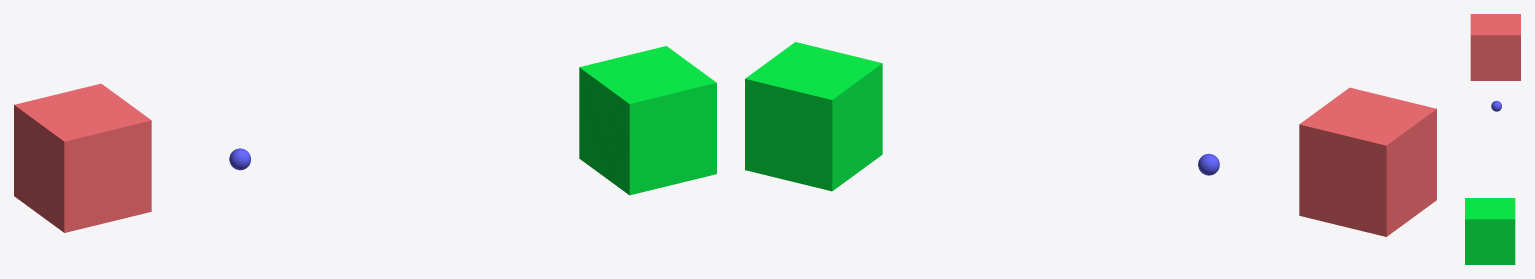
The model's file is track.glb.
The picture shows the model from 3 angles, left to right: view 1: azimuth 30°, elevation 25°; view 2: azimuth 150°, elevation 25°; view 3: azimuth 270°, elevation 25°; orthographic projection. The views are drawn at different scales.
Parts seen in each view (by area): view 1: Cube, Cube.001; view 2: Cube, Cube.001; view 3: Cube, Cube.001, Sphere.
Part boxes in pixels (x1,y1,x2,y2): Cube: (14,83,151,232); Cube.001: (579,46,716,195); Cube: (1299,87,1436,236); Cube.001: (745,42,882,191); Cube: (1470,14,1520,80); Cube.001: (1465,198,1515,264); Sphere: (1491,100,1501,111).
Bounding box in the file's own units: 5.37 × 1.48 × 0.8032.
